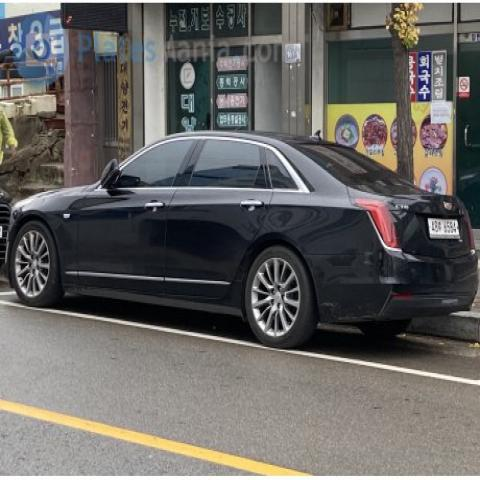LP: (418, 208, 466, 244)
